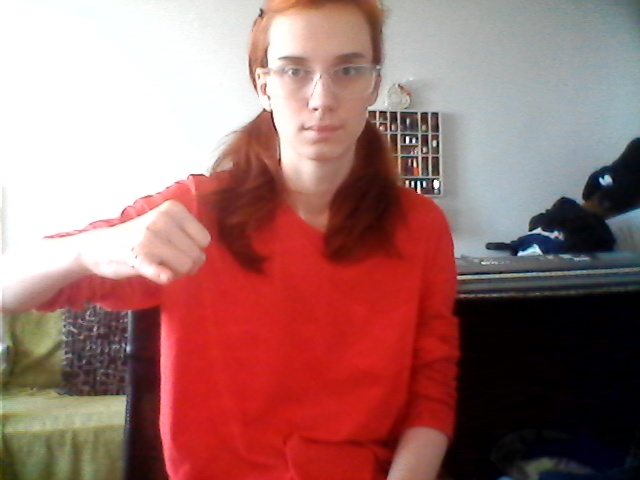j: (99, 184, 230, 295)
